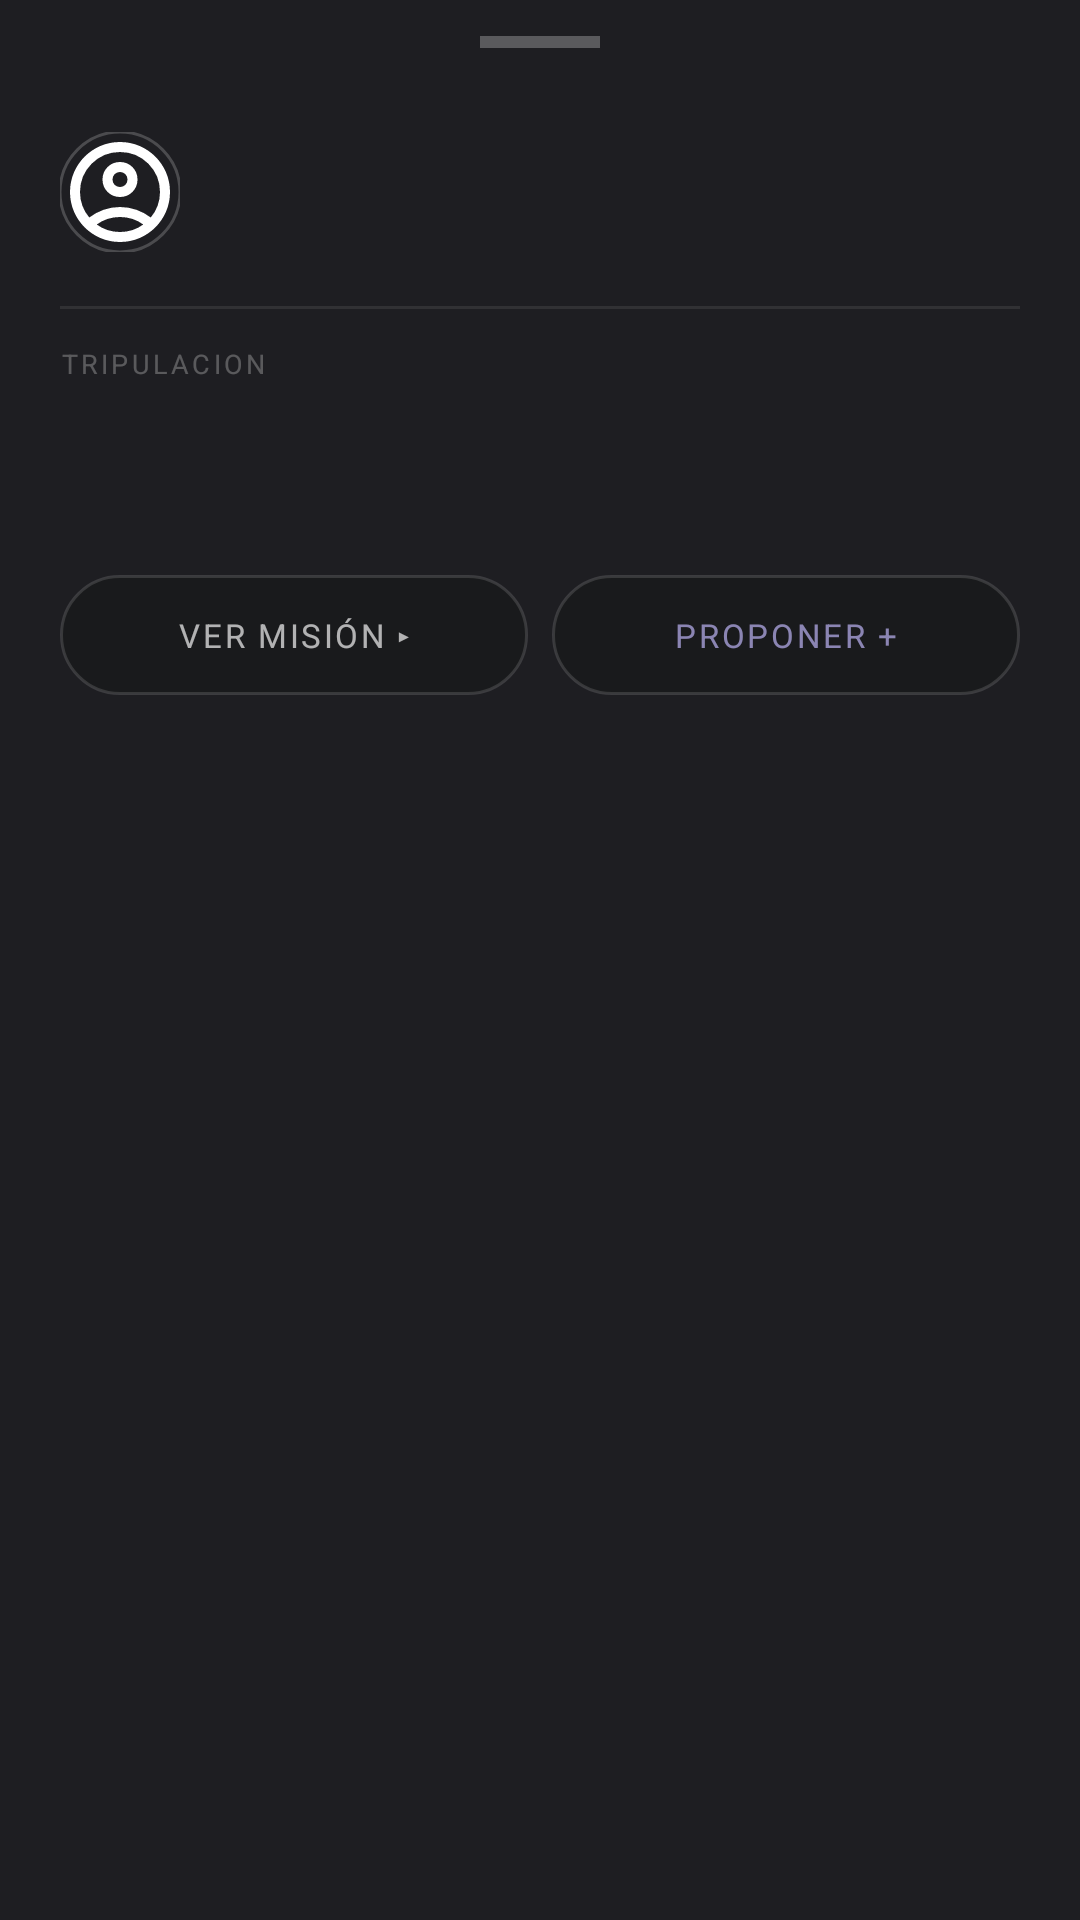

Where to tap for icons on this 1080 x 1920 app screen, as (x=x, y=y):
circle profile: (x=120, y=192)
